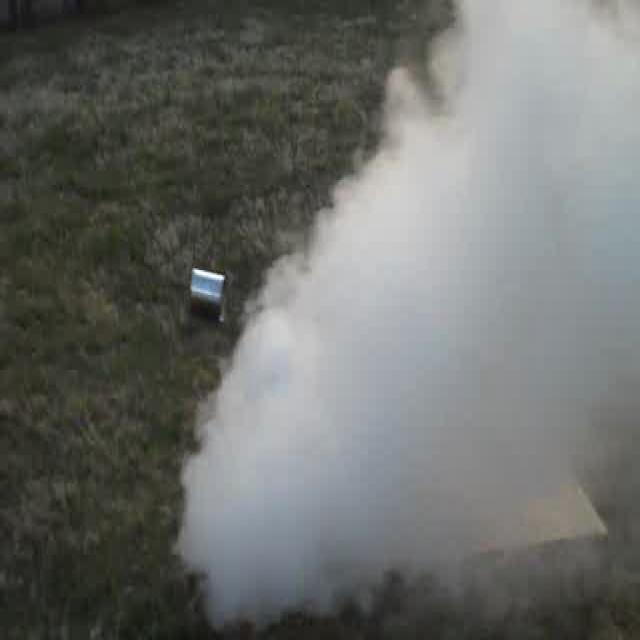Smoke: (240, 13, 640, 627)
